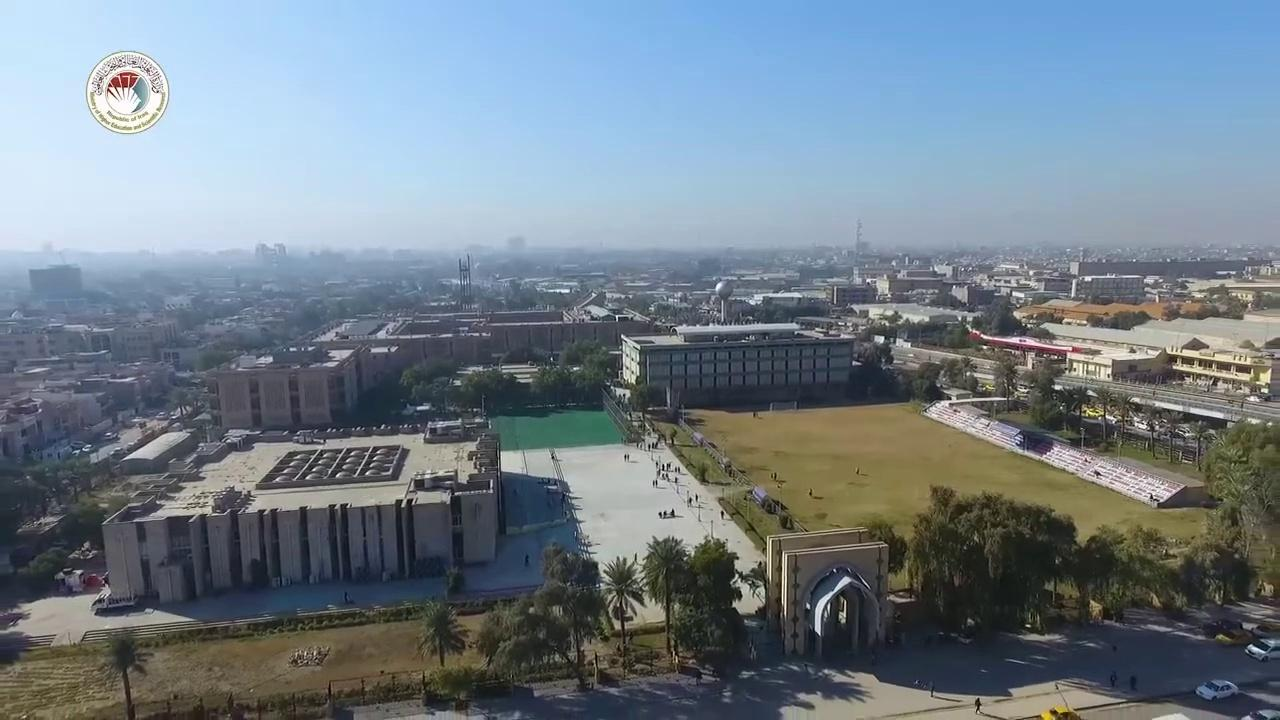car: (1195, 678, 1238, 700), (1244, 637, 1279, 661), (1201, 617, 1242, 636), (1040, 706, 1082, 719), (1240, 707, 1279, 719), (1250, 623, 1279, 639)
person: (693, 667, 702, 685), (974, 696, 982, 714), (1109, 669, 1117, 687), (1129, 674, 1137, 690), (929, 680, 935, 696), (343, 590, 350, 603)
tree: (412, 530, 766, 693), (864, 482, 1178, 636), (1198, 416, 1279, 558), (907, 483, 975, 629), (1078, 522, 1171, 623), (675, 535, 745, 664), (533, 580, 610, 690), (640, 533, 689, 661), (1059, 533, 1117, 625), (599, 554, 646, 651), (99, 630, 148, 718), (470, 599, 521, 682), (413, 596, 467, 666), (859, 512, 908, 584), (1204, 546, 1248, 605), (1108, 389, 1138, 464), (737, 559, 771, 622), (433, 664, 477, 708), (540, 541, 580, 585), (991, 356, 1019, 411), (1093, 383, 1114, 443), (444, 565, 465, 595)
